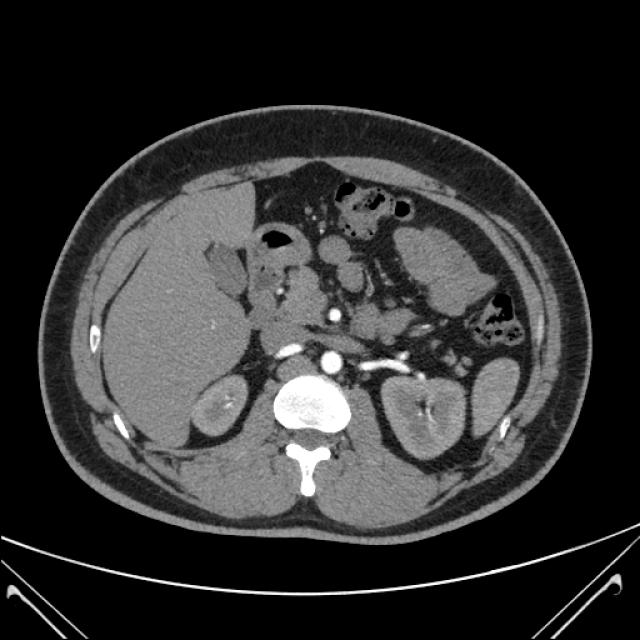Kidney: (30, 60, 632, 545)
